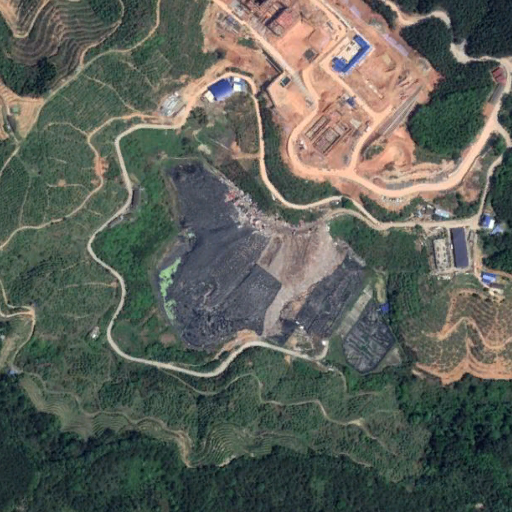lf: (165, 164, 365, 346)
